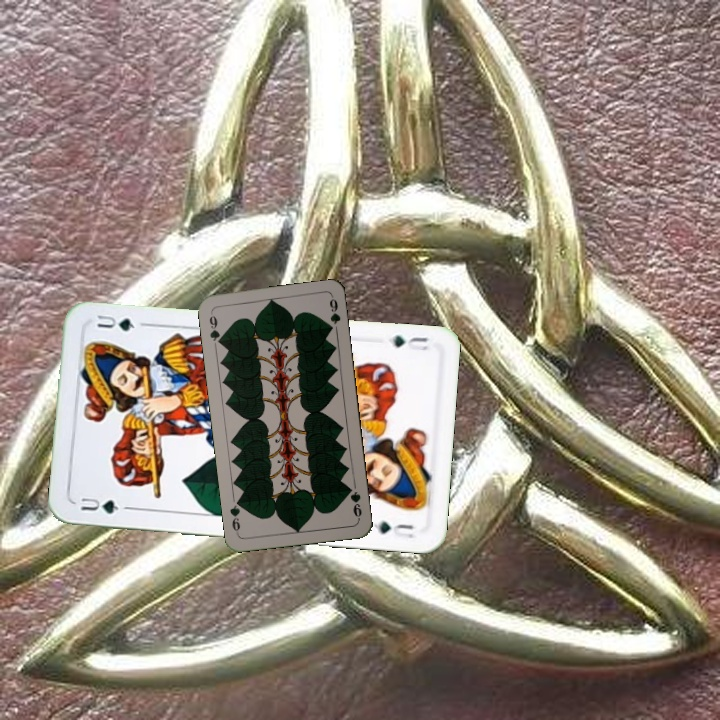G9: (343, 482, 364, 522), (205, 308, 225, 348)
GU: (384, 331, 432, 354), (77, 493, 122, 516)
